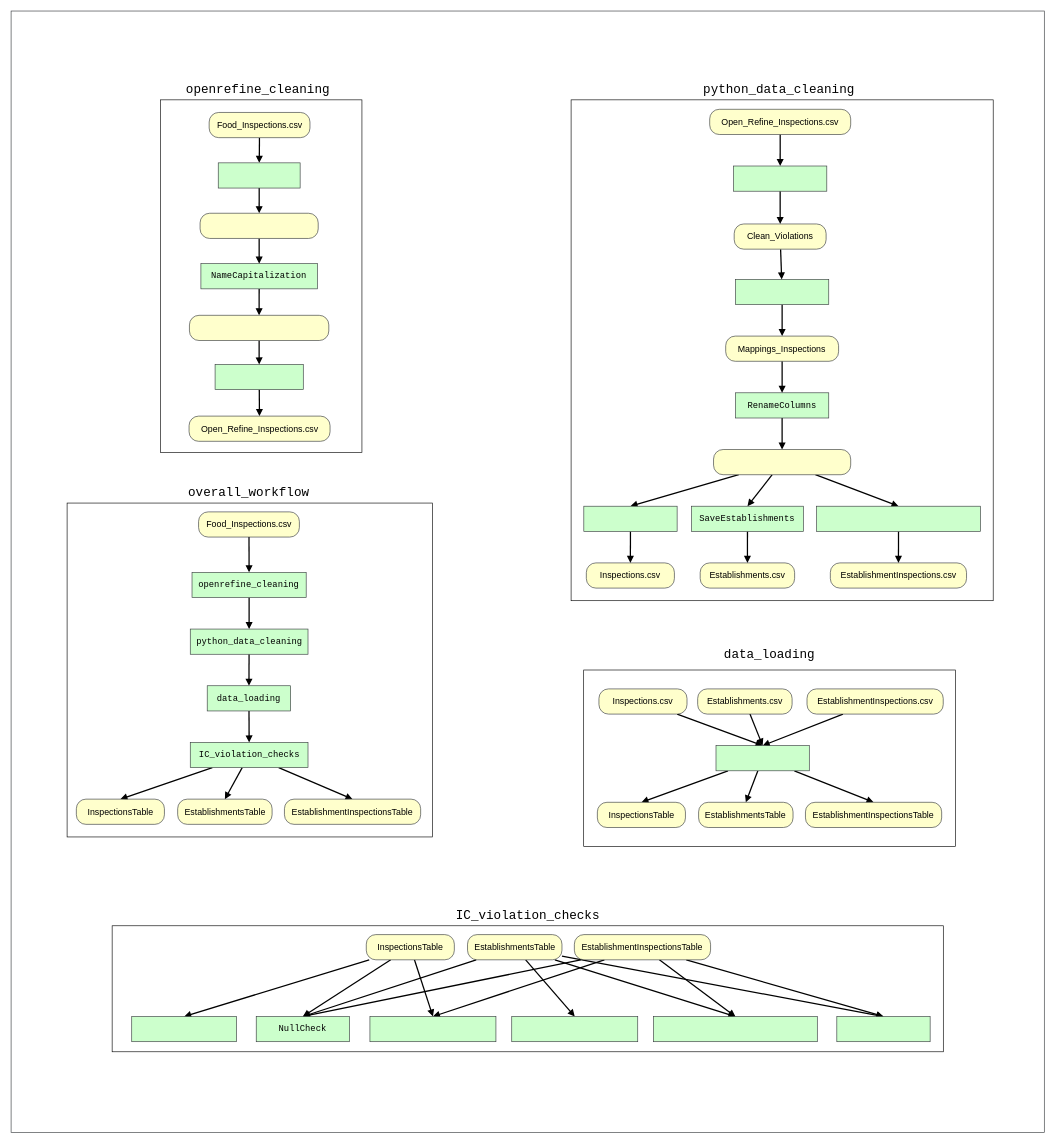
Some shapes in this 1055 by 1143 pixel diagram are drawn without their labels. Here are the shapes that lost their labels. From the top down, the centre of each, then its label:
At point 259,175: "TypeCleaning".
At point 780,178: "CleanViolations".
At point 258,225: "Clean_types_Inspections".
At point 782,292: "CreateMappings".
At point 259,328: "Capital_Name_Inspections".
At point 258,377: "NameClustering".
At point 782,462: "Clean_Inspections_Renamed".
At point 630,518: "SaveInspections".
At point 898,518: "SaveEstablishmentInspections".
At point 762,758: "LoadCsvToSql".
At point 184,1029: "NumericConstraint".
At point 432,1029: "InspecIdInInspections".
At point 574,1029: "FunctionalDependency".
At point 735,1029: "EstablishIdInEstablishments".
At point 883,1029: "DuplicateKeys".
